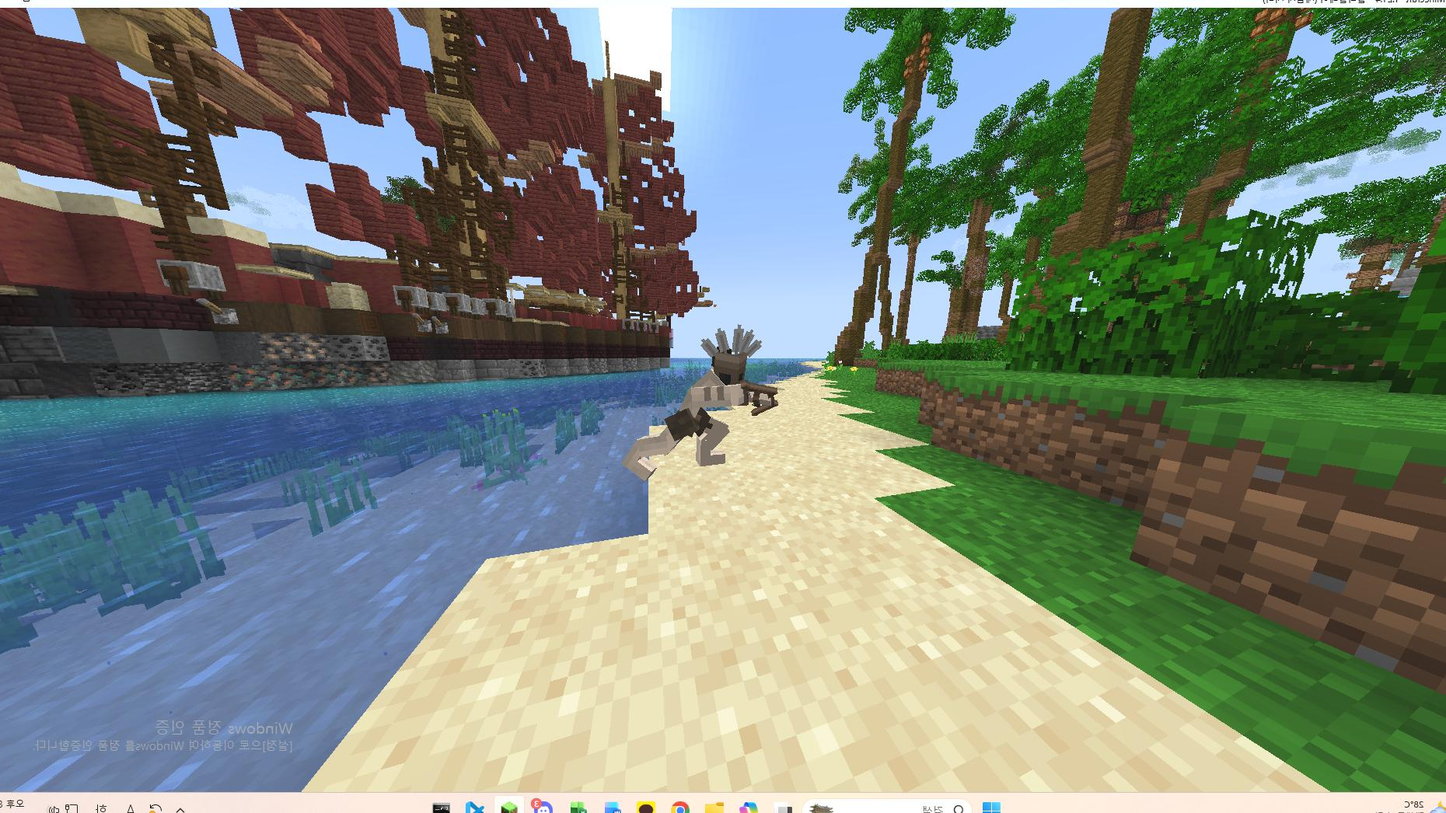bow_indian: (597, 322, 798, 513)
